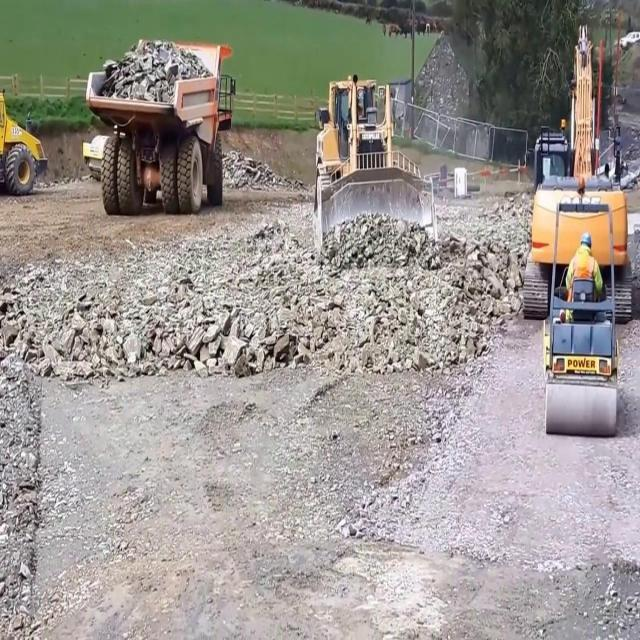Dump Truck: (84, 40, 234, 212)
Excavator: (522, 22, 632, 321)
Roller: (543, 188, 619, 436)
